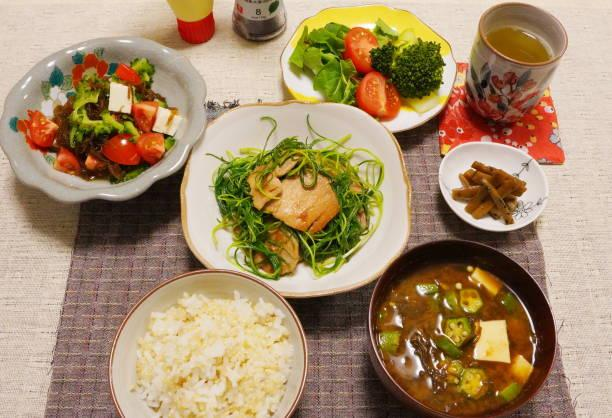Braised Crucian Carp: (179, 90, 417, 307), (0, 35, 205, 204), (366, 239, 555, 415), (279, 4, 451, 134)
